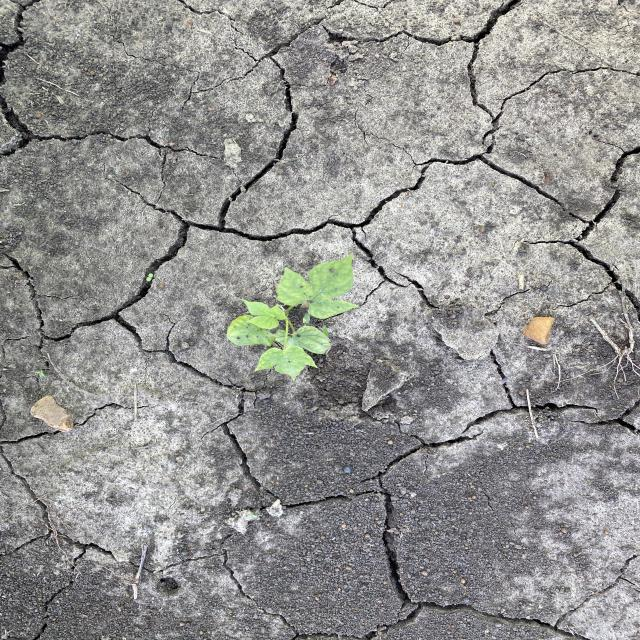MorningGlory: (225, 252, 363, 384)
